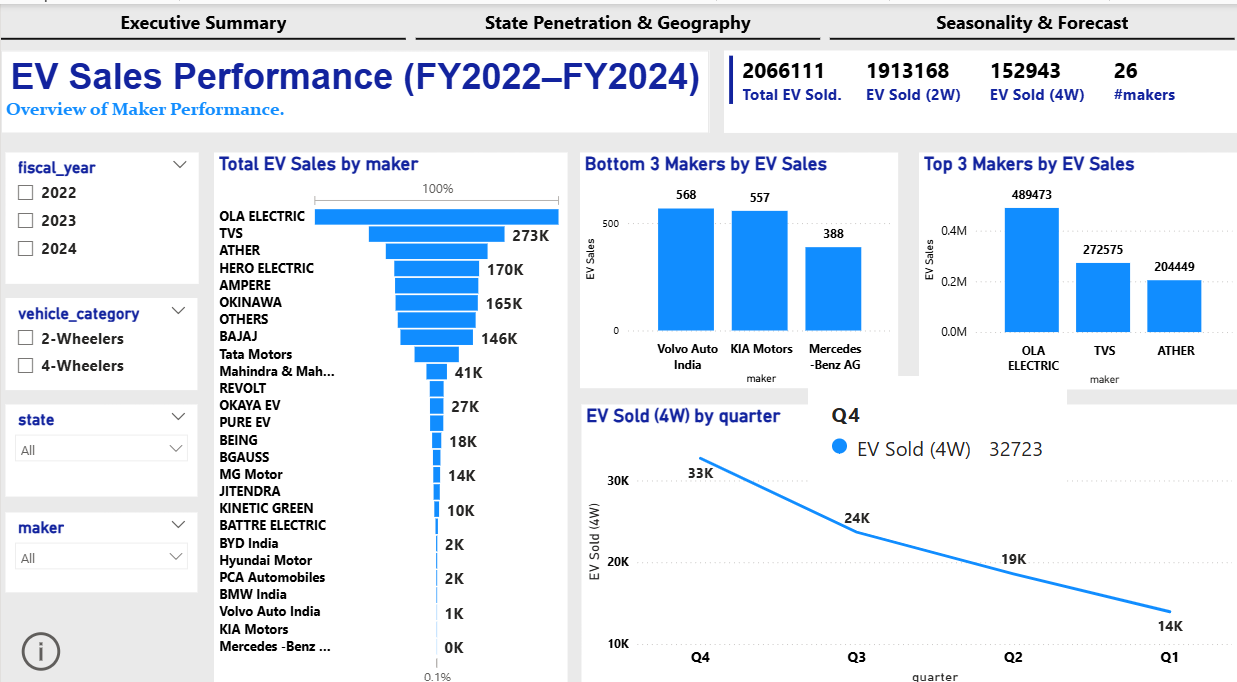

Layout of this report page (visuals, bound fields, positions):
{"tool":"powerbi","page":{"name":"Maker Performance","canvas":[1280,720],"ordinal":2},"visuals":[{"type":"columnChart","title":"Top  3 Makers by EV Sales","fields":{"Category":["electric_vehicle_sales_by_makers.maker"],"Y":["electric_vehicle_sales_by_makers.EV Sales"]},"box":[949.9,153.5,329.6,245.6],"z":0},{"type":"columnChart","title":"Bottom 3 Makers by EV Sales","fields":{"Category":["electric_vehicle_sales_by_makers.maker"],"Y":["electric_vehicle_sales_by_makers.EV Sales"]},"box":[599.3,153.5,329.6,243.9],"z":1000},{"type":"lineChart","fields":{"Y":["electric_vehicle_sales_by_makers.EV Sales (4W)"],"Category":["dim_date.quarter"]},"box":[601.5,415,678.6,294.7],"z":2000},{"type":"funnel","title":"Total EV Sales by maker","fields":{"Category":["electric_vehicle_sales_by_makers.maker"],"Y":["electric_vehicle_sales_by_makers.Total EV sales from maker-level factEV Sales"]},"box":[220.3,154.1,366.3,555.6],"z":3000},{"type":"slicer","fields":{"Values":["electric_vehicle_sales_by_makers.maker"]},"box":[4.8,526.7,198.7,82.4],"z":4000},{"type":"slicer","fields":{"Values":["electric_vehicle_sales_by_makers.vehicle_category"]},"box":[4.8,303.7,198.7,95.3],"z":5000},{"type":"slicer","fields":{"Values":["electric_vehicle_sales_by_state.state"]},"box":[4.8,415.2,198.7,95.3],"z":6000},{"type":"multiRowCard","fields":{"Values":["Sum(electric_vehicle_sales_by_state.electric_vehicles_sold)","electric_vehicle_sales_by_makers.EV Sales (2W)","electric_vehicle_sales_by_makers.EV Sales (4W)","electric_vehicle_sales_by_makers.#makers"]},"box":[748,48.5,531.5,85.6],"z":7000},{"type":"textbox","box":[0,48.5,733.4,85.6],"z":8000},{"type":"slicer","fields":{"Values":["dim_date.fiscal_year"]},"box":[4.8,153.5,200.3,135.7],"z":9000},{"type":"pageNavigator","box":[0,0,1279.5,37.2],"z":10000},{"type":"actionButton","box":[16.2,644.6,155.1,51.7],"z":11000}]}

Visuals, with their boxes in screenshot pixels (x1, y1, x2, y2), scaled from the page's 1280x720 canvas onto the 1237x682 screenshot:
"Top  3 Makers by EV Sales" columnChart: rect(918, 145, 1236, 378)
"Bottom 3 Makers by EV Sales" columnChart: rect(579, 145, 898, 376)
lineChart - electric_vehicle_sales_by_makers.EV Sales (4W) x dim_date.quarter: rect(581, 393, 1236, 672)
"Total EV Sales by maker" funnel: rect(213, 146, 567, 672)
slicer - electric_vehicle_sales_by_makers.maker: rect(5, 499, 197, 577)
slicer - electric_vehicle_sales_by_makers.vehicle_category: rect(5, 288, 197, 378)
slicer - electric_vehicle_sales_by_state.state: rect(5, 393, 197, 484)
multiRowCard - Sum(electric_vehicle_sales_by_state.electric_vehicles_sold) x electric_vehicle_sales_by_makers.EV Sales (2W): rect(723, 46, 1236, 127)
textbox: rect(0, 46, 709, 127)
slicer - dim_date.fiscal_year: rect(5, 145, 198, 274)
pageNavigator: rect(0, 0, 1236, 35)
actionButton: rect(16, 611, 166, 660)
